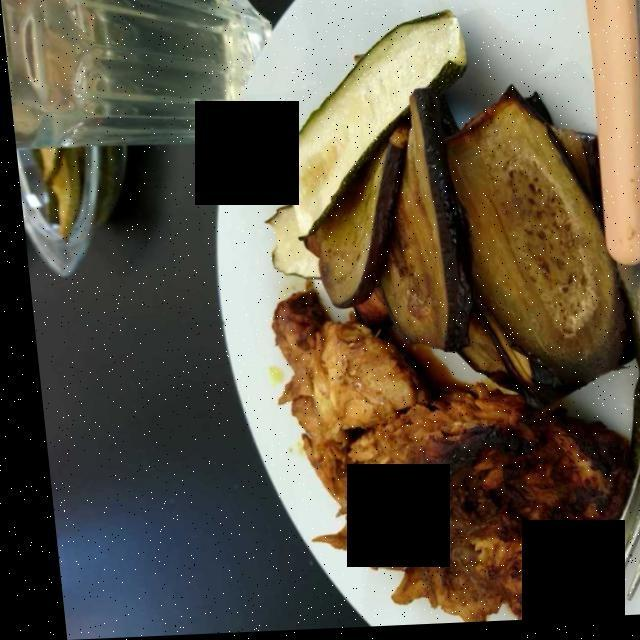chicken: (266, 292, 622, 616)
mixed-vegetables: (255, 13, 630, 405)
water: (18, 0, 254, 143)
